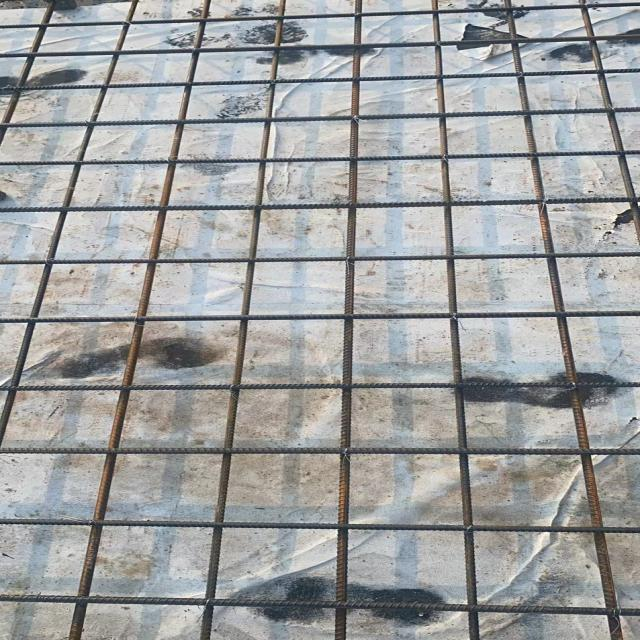ribbed bar: (68, 0, 211, 639), (501, 0, 624, 639), (0, 0, 139, 447), (200, 0, 288, 639), (428, 0, 482, 639), (333, 0, 363, 639), (0, 2, 639, 29), (0, 67, 639, 91), (576, 0, 638, 238), (0, 34, 639, 57), (0, 593, 639, 616), (0, 106, 639, 128), (0, 150, 639, 167), (0, 518, 639, 534), (0, 197, 639, 212), (0, 0, 59, 144), (0, 253, 639, 266), (0, 310, 639, 323), (0, 381, 639, 390), (0, 447, 639, 456)
